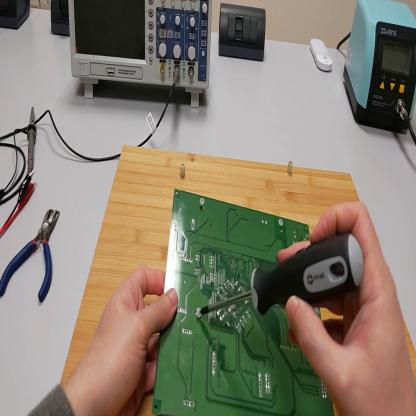hand: (277, 195, 416, 416), (75, 266, 178, 415)
low voltage board: (152, 190, 335, 416)
oscilloscope: (69, 1, 215, 111)
oscilloscope probe tip: (26, 104, 39, 173)
pliers: (1, 209, 59, 305)
screwdriver-: (201, 234, 365, 316)
socket: (1, 2, 31, 30), (50, 1, 70, 38)
welder station: (343, 3, 416, 134)
working area: (59, 143, 355, 411)
